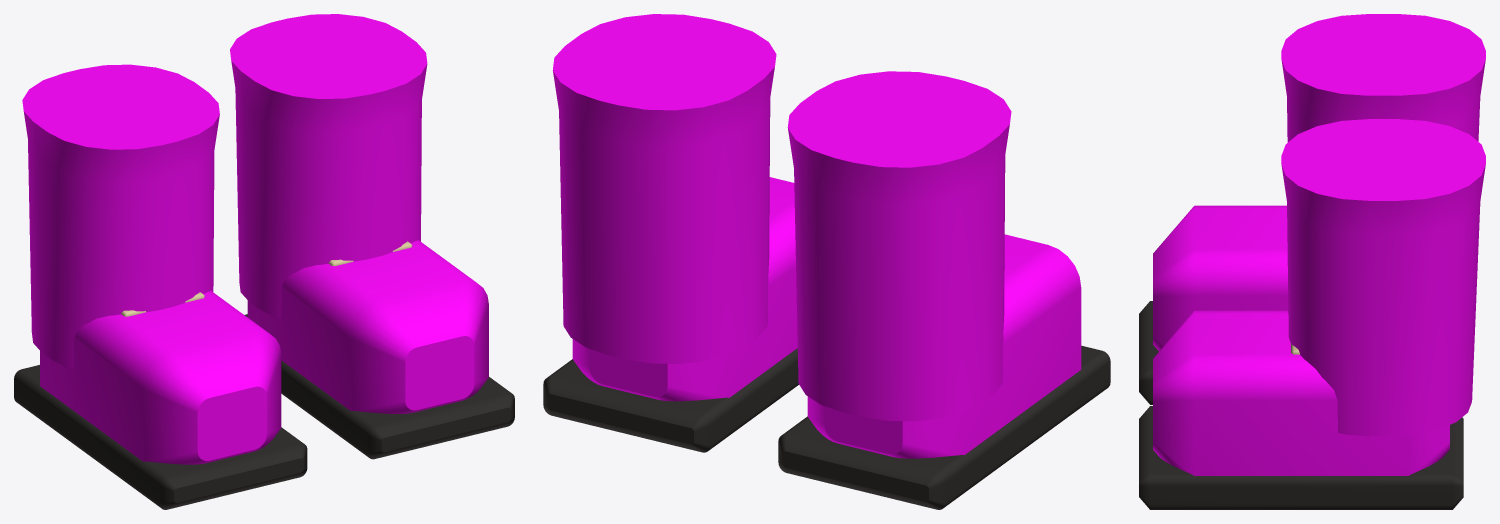
Rendered from porte_bottes.glb.
3 renders of one model, left to right at view 1: azimuth 30°, elevation 25°; view 2: azimuth 150°, elevation 25°; view 3: azimuth 270°, elevation 25°, orthographic. The views are drawn at different scales.
Parts seen in each view (by area): view 1: jambe_g__bottes_teinte.002, jambe_d__bottes_teinte.002, pied_d__bottes_teinte.002, pied_g__bottes_teinte.002, pied_d__bottes_semelle.002, pied_g__bottes_semelle.002; view 2: jambe_d__bottes_teinte.002, jambe_g__bottes_teinte.002, pied_d__bottes_teinte.002, pied_d__bottes_semelle.002, pied_g__bottes_teinte.002, pied_g__bottes_semelle.002; view 3: jambe_g__bottes_teinte.002, pied_g__bottes_teinte.002, jambe_d__bottes_teinte.002, pied_d__bottes_teinte.002, pied_g__bottes_semelle.002, pied_d__bottes_semelle.002.
Part boxes in pixels (<box>): jambe_g__bottes_teinte.002: <box>230,14,427,318</box>; jambe_d__bottes_teinte.002: <box>22,64,219,369</box>; pied_d__bottes_teinte.002: <box>40,291,281,464</box>; pied_g__bottes_teinte.002: <box>247,240,488,413</box>; pied_d__bottes_semelle.002: <box>14,365,307,509</box>; pied_g__bottes_semelle.002: <box>244,314,514,459</box>; jambe_d__bottes_teinte.002: <box>787,71,1011,421</box>; jambe_g__bottes_teinte.002: <box>552,14,776,363</box>; pied_d__bottes_teinte.002: <box>807,234,1081,458</box>; pied_d__bottes_semelle.002: <box>778,345,1110,509</box>; pied_g__bottes_teinte.002: <box>572,177,797,401</box>; pied_g__bottes_semelle.002: <box>543,348,798,452</box>; jambe_g__bottes_teinte.002: <box>1281,119,1485,436</box>; pied_g__bottes_teinte.002: <box>1153,310,1449,475</box>; jambe_d__bottes_teinte.002: <box>1281,14,1485,142</box>; pied_d__bottes_teinte.002: <box>1153,205,1288,351</box>; pied_g__bottes_semelle.002: <box>1139,406,1463,509</box>; pied_d__bottes_semelle.002: <box>1139,301,1158,404</box>.
Bounding box in the file's own units: 0.32 × 0.252 × 0.251.
